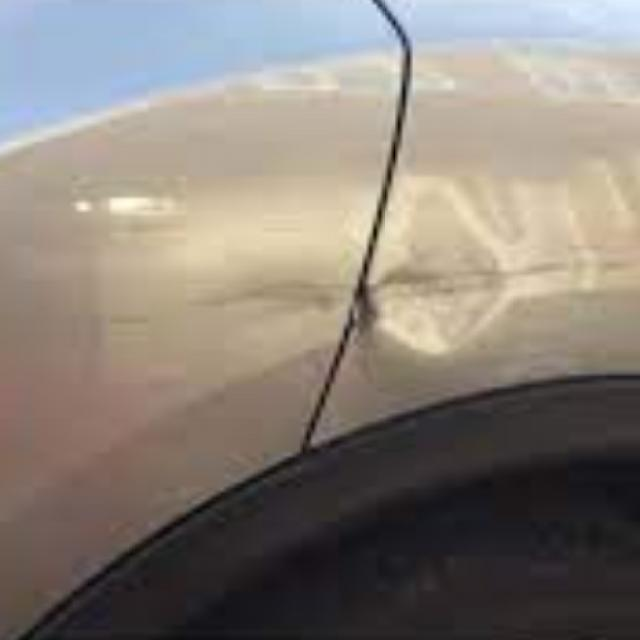dents: (366, 187, 496, 360)
